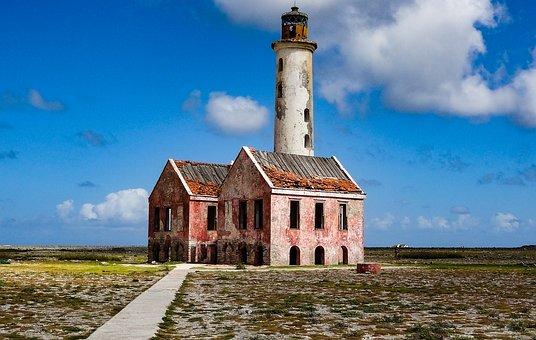field: (3, 255, 535, 340)
house: (138, 33, 380, 265)
sky: (319, 3, 536, 191)
